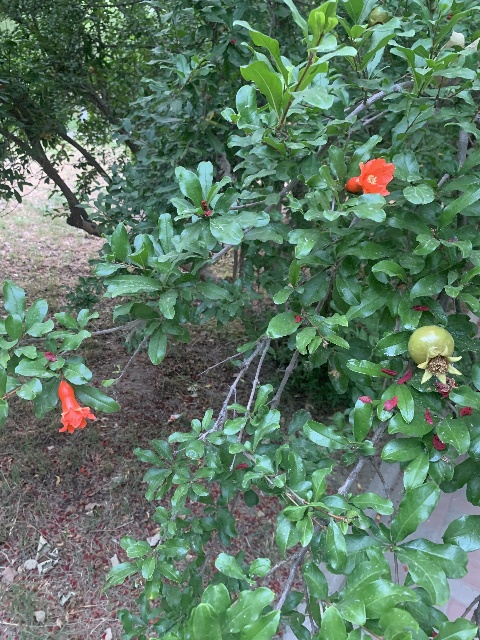flower: (56, 379, 95, 434), (345, 158, 395, 197)
mid-growth: (408, 324, 463, 386)
